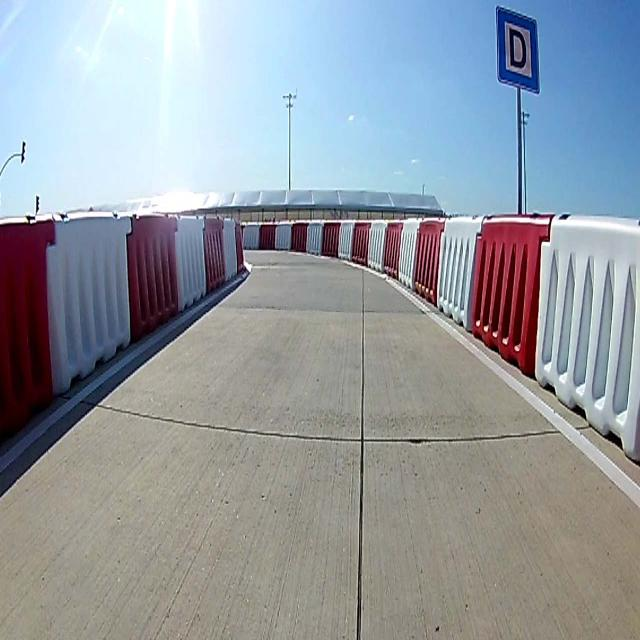durak: (498, 8, 538, 90)
